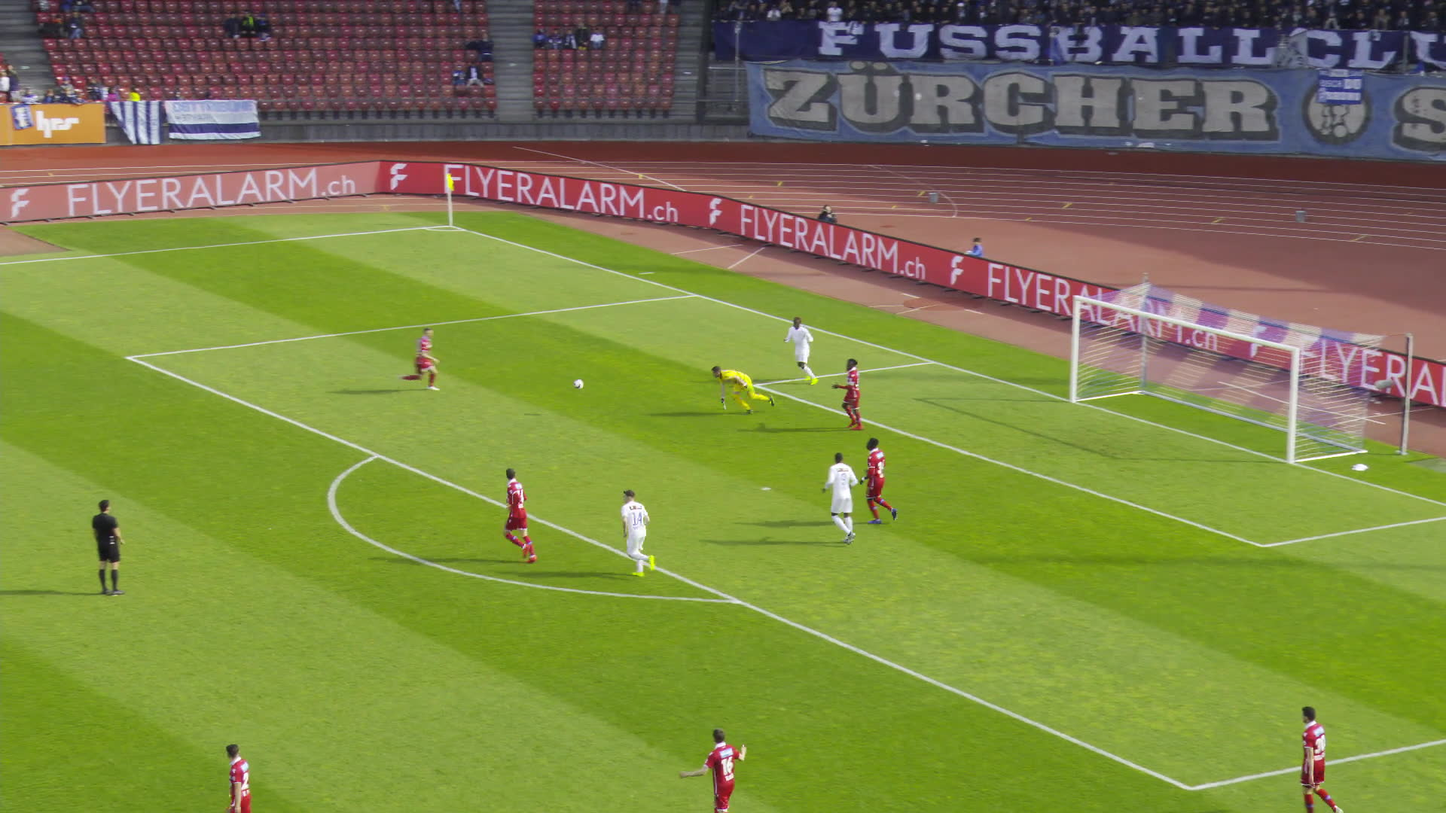ball: (574, 380, 584, 391)
player: (682, 730, 749, 812), (1287, 705, 1336, 812), (617, 489, 663, 577), (817, 453, 858, 547), (859, 437, 901, 524), (502, 469, 536, 563), (392, 327, 439, 391), (709, 366, 773, 413), (780, 315, 819, 386), (828, 358, 865, 430), (220, 741, 253, 812)
referee: (89, 495, 121, 595)
